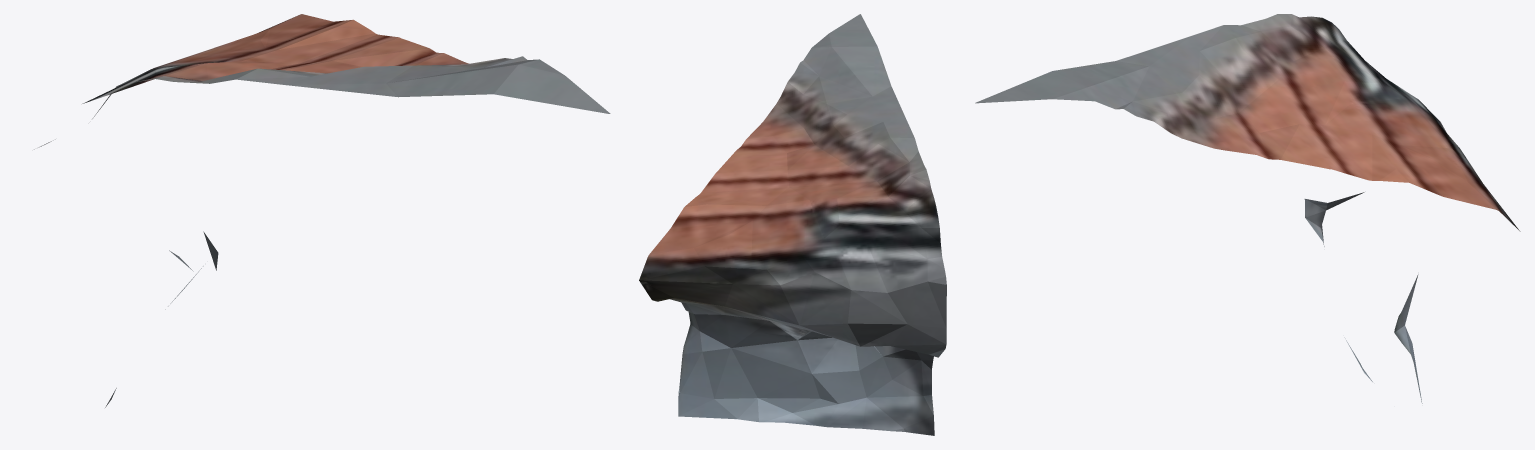
3 renders of one model, left to right at view 1: azimuth 30°, elevation 25°; view 2: azimuth 150°, elevation 25°; view 3: azimuth 270°, elevation 25°, orthographic. The views are drawn at different scales.
Size of the model in its own units: 1.64 by 1.73 by 2.54.
Materials: 1 (1 with a texture image).
